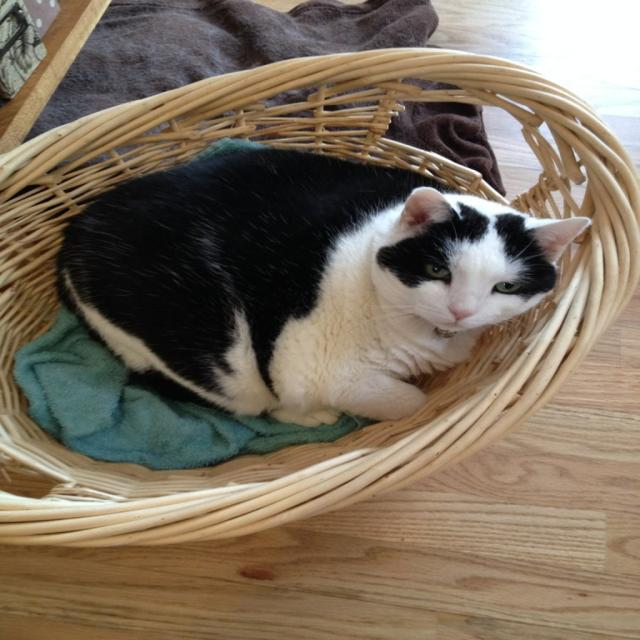Cat: (50, 133, 598, 443)
